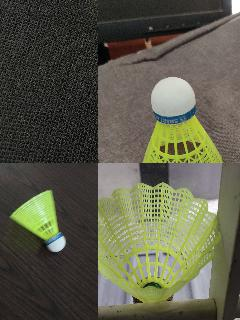shuttlecock: (98, 181, 221, 303), (138, 76, 226, 162), (9, 190, 66, 252)
